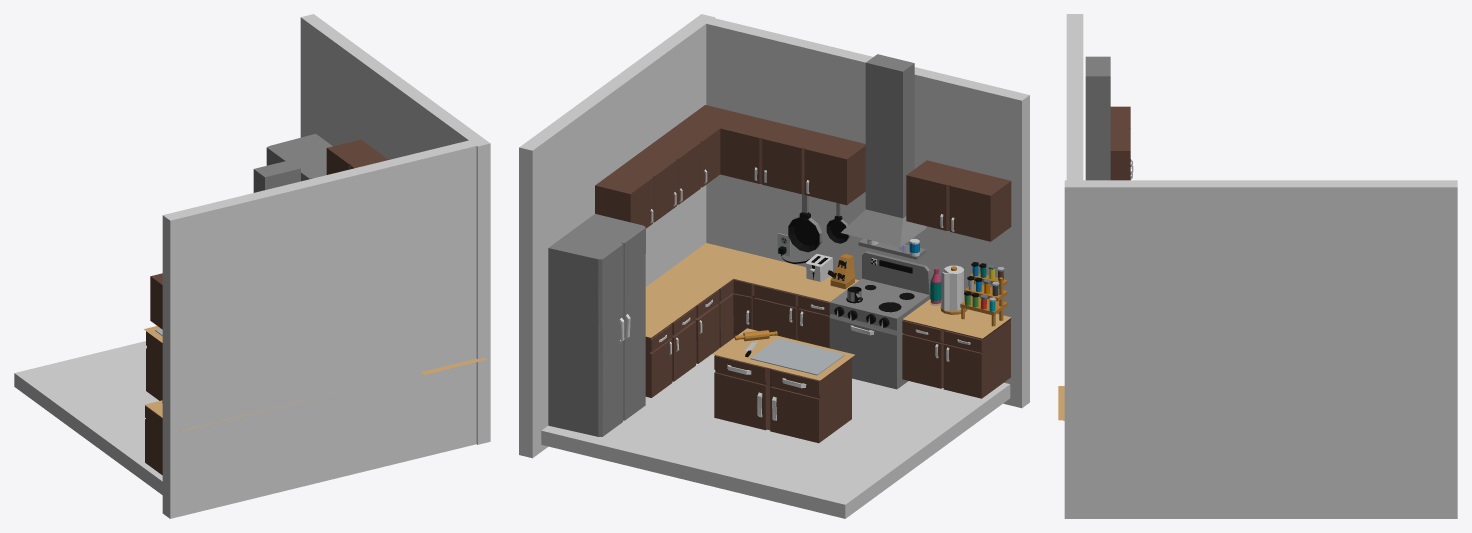
3 renders of one model, left to right at view 1: azimuth 30°, elevation 25°; view 2: azimuth 150°, elevation 25°; view 3: azimuth 270°, elevation 25°, orthographic. The views are drawn at different scales.
Parts seen in each view (by area): view 1: node_MeshObject-2146570240-PolyPaper21; view 2: node_MeshObject-2146570240-PolyPaper21; view 3: node_MeshObject-2146570240-PolyPaper21.
Boxes of the visible parts, box(x1,y1,x2,y2) form: node_MeshObject-2146570240-PolyPaper21: box(14, 14, 490, 518); node_MeshObject-2146570240-PolyPaper21: box(519, 14, 1029, 518); node_MeshObject-2146570240-PolyPaper21: box(1058, 14, 1457, 518).
Bounding box in the file's own units: 1.95 × 1.81 × 1.9.
